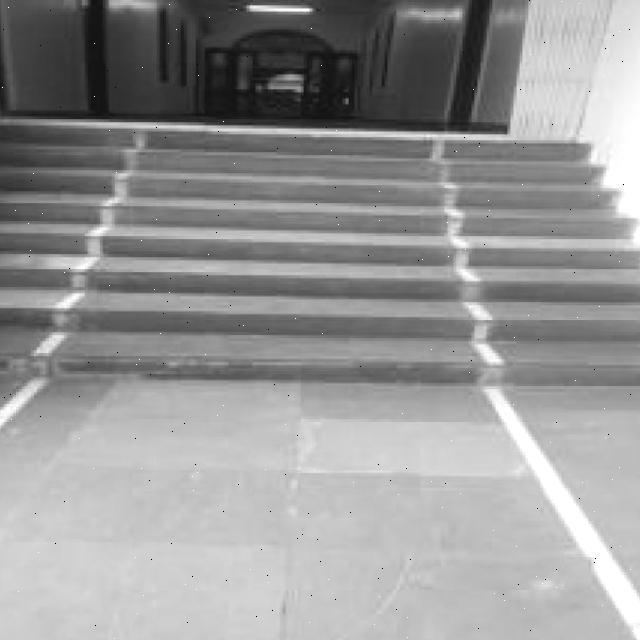stair: (82, 104, 517, 401)
